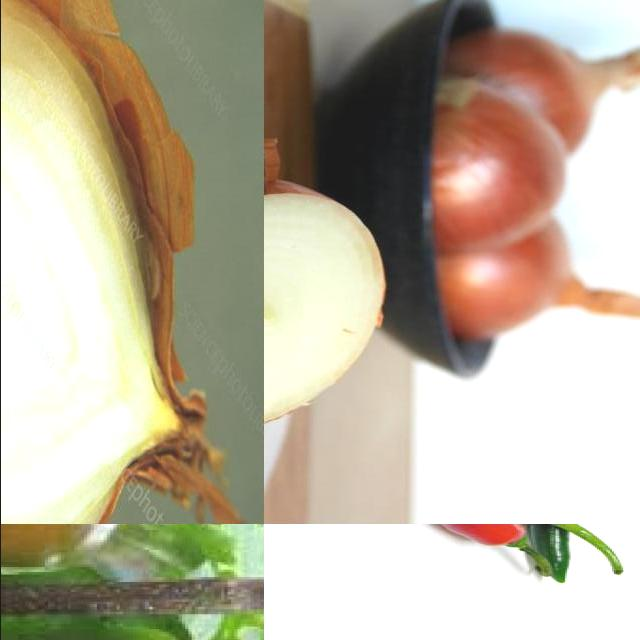bell_pepper: (1, 525, 150, 575)
onion: (1, 1, 203, 525), (264, 172, 389, 435)
